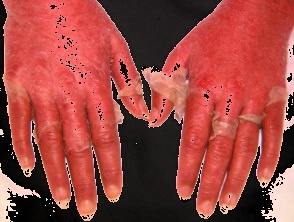SJS-TEN: (0, 0, 158, 222), (143, 0, 294, 222)
